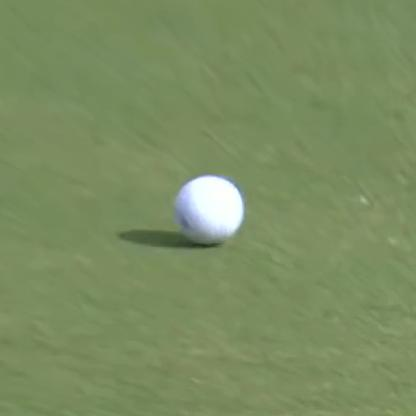golfball: (173, 170, 243, 241)
